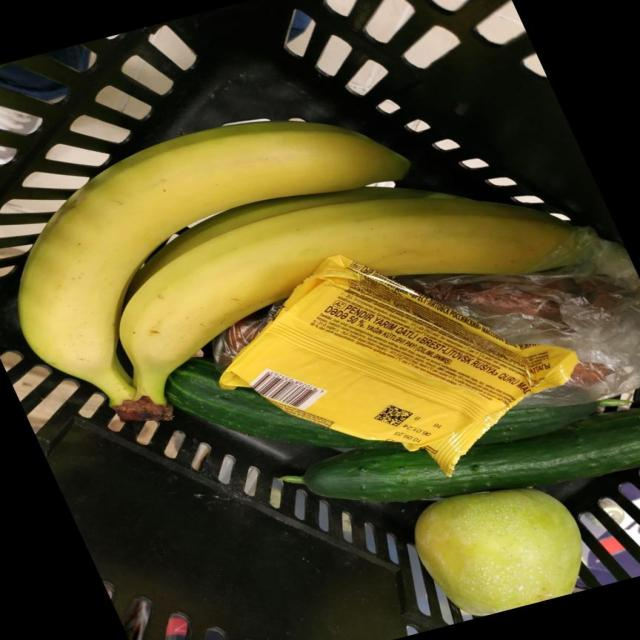Apple: (414, 487, 581, 616)
Banana: (18, 121, 408, 406), (118, 188, 574, 404)
Cheese: (219, 255, 577, 474)
Cucumber: (300, 408, 640, 502), (164, 359, 401, 448), (476, 401, 597, 444)
